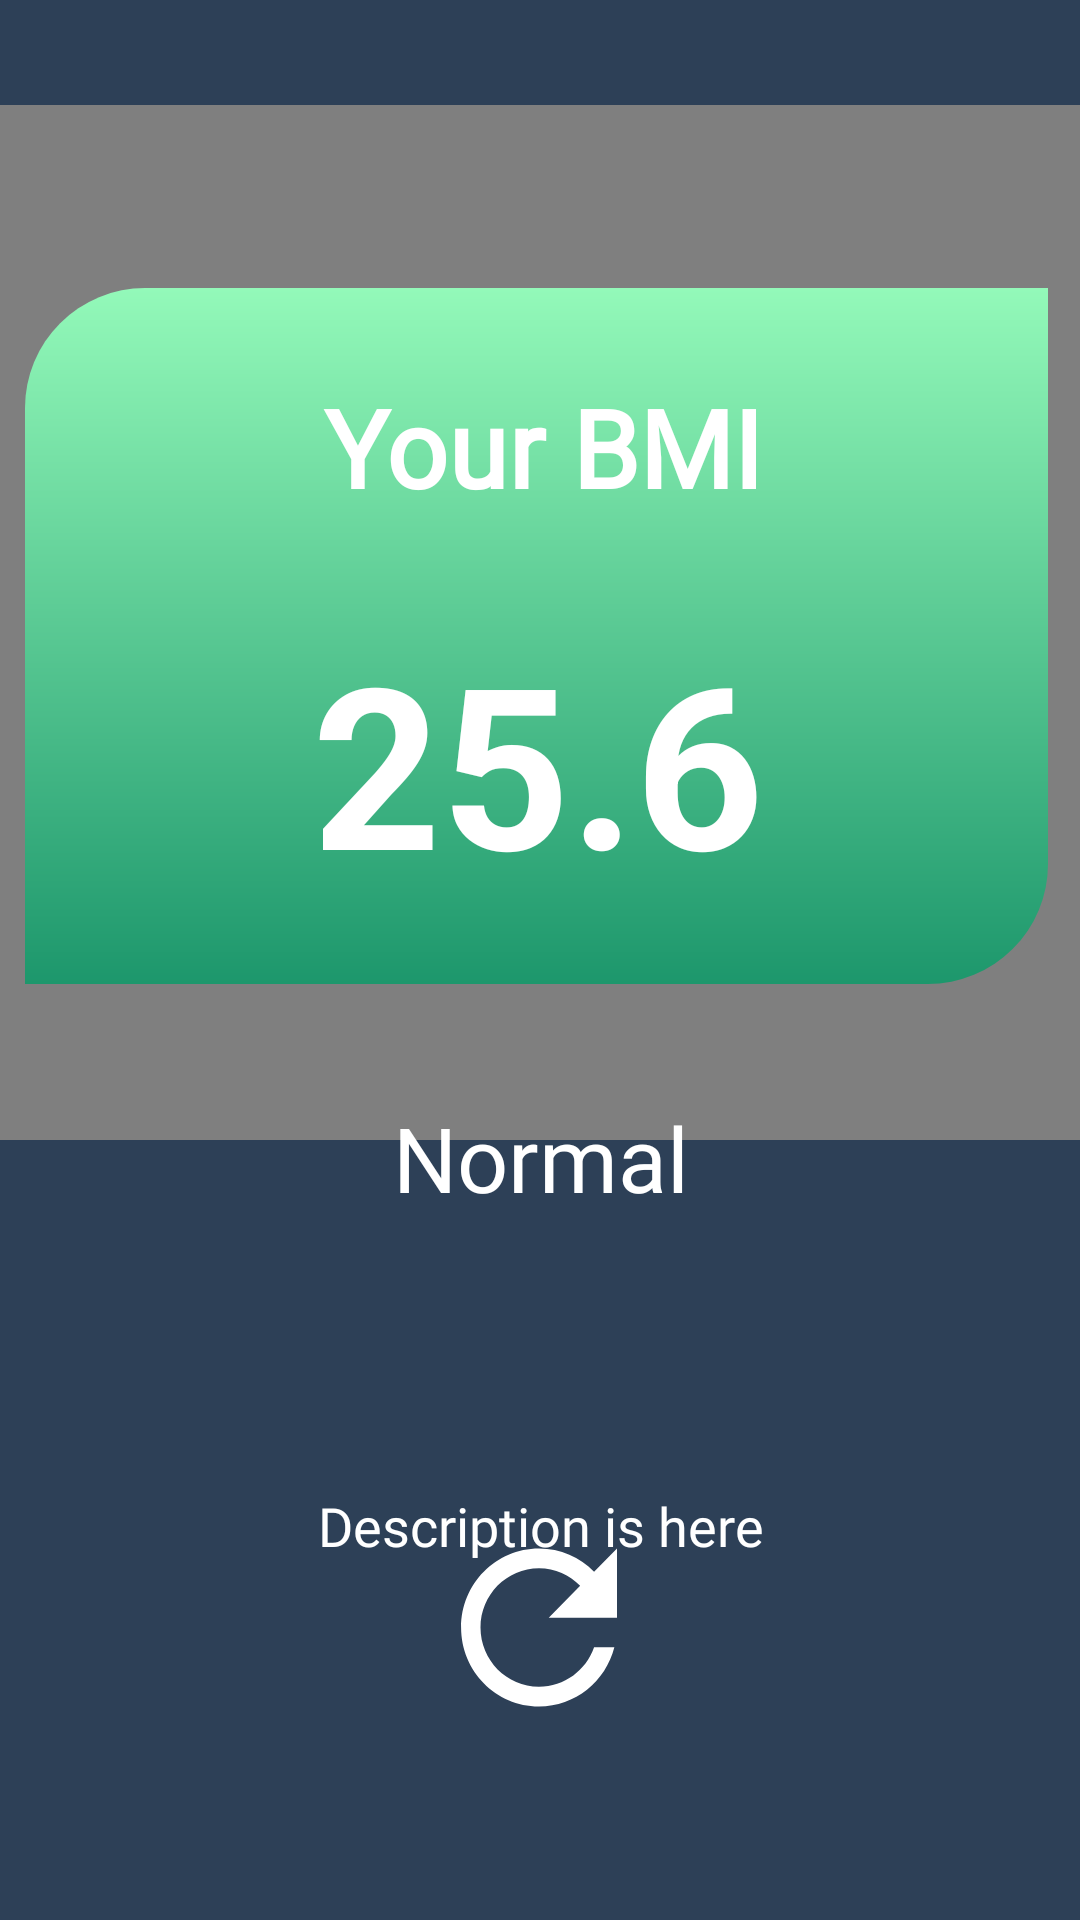

Icons on this 1080×1920 Android screen, each with the point to tap as (x,y):
refresh: (542,1608)
